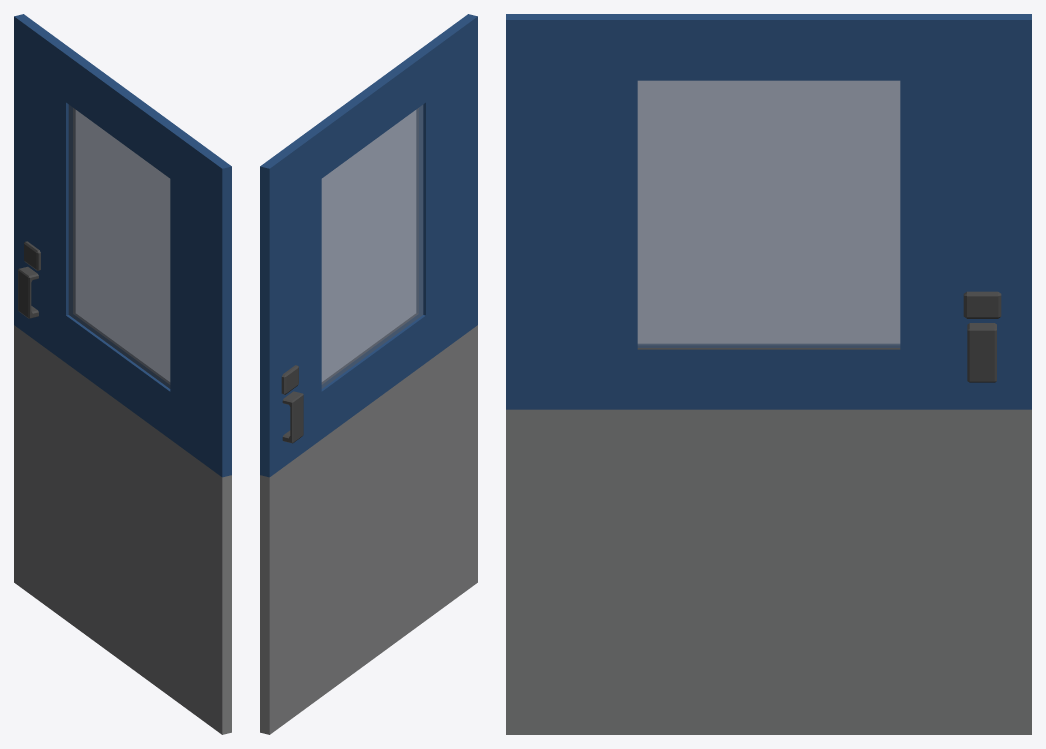
The model's file is Obj_LabDoorCR 1.fbx.
The picture shows the model from 3 angles, left to right: view 1: azimuth 30°, elevation 25°; view 2: azimuth 150°, elevation 25°; view 3: azimuth 270°, elevation 25°; orthographic projection. The views are drawn at different scales.
Parts seen in each view (by area): view 1: Obj_LabDoorCR; view 2: Obj_LabDoorCR; view 3: Obj_LabDoorCR.
Boxes of the visible parts, x1=… form: Obj_LabDoorCR: x1=14, y1=14, x2=231, y2=734; Obj_LabDoorCR: x1=260, y1=14, x2=477, y2=734; Obj_LabDoorCR: x1=506, y1=14, x2=1031, y2=734.
Size of the model in its own units: 0.1635 by 3 by 2.
